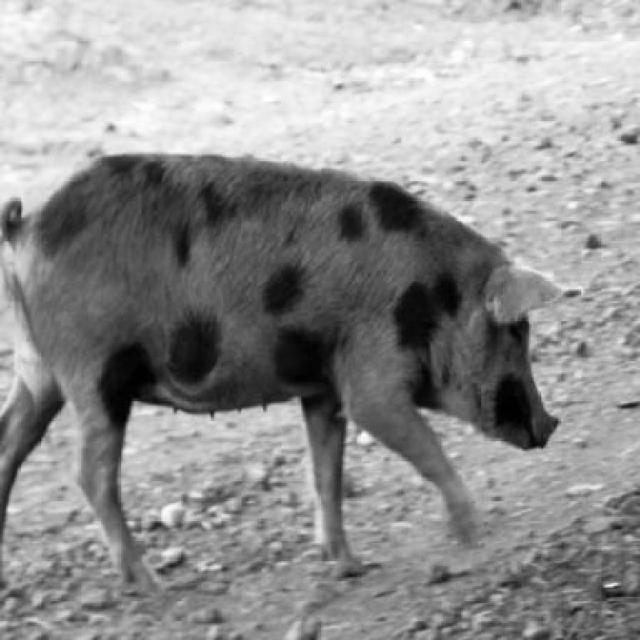Boar: (1, 151, 587, 598)
